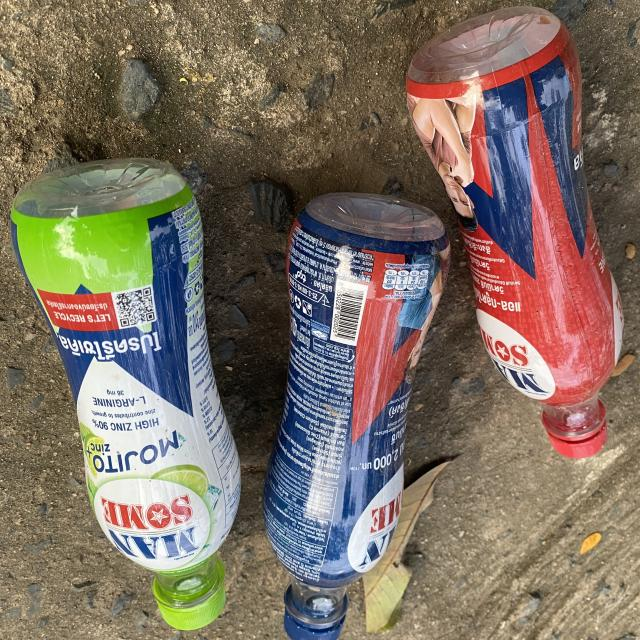plastik: (11, 159, 241, 631), (406, 7, 623, 459), (264, 193, 450, 640)
